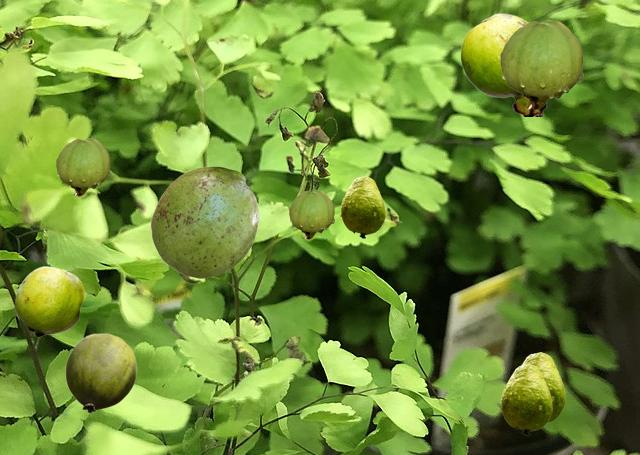guava: (150, 166, 258, 277), (460, 13, 546, 115), (500, 20, 582, 109), (65, 333, 136, 412), (15, 266, 84, 336), (500, 364, 551, 434), (521, 352, 564, 423), (56, 138, 109, 195), (340, 176, 384, 237), (289, 190, 333, 238)
